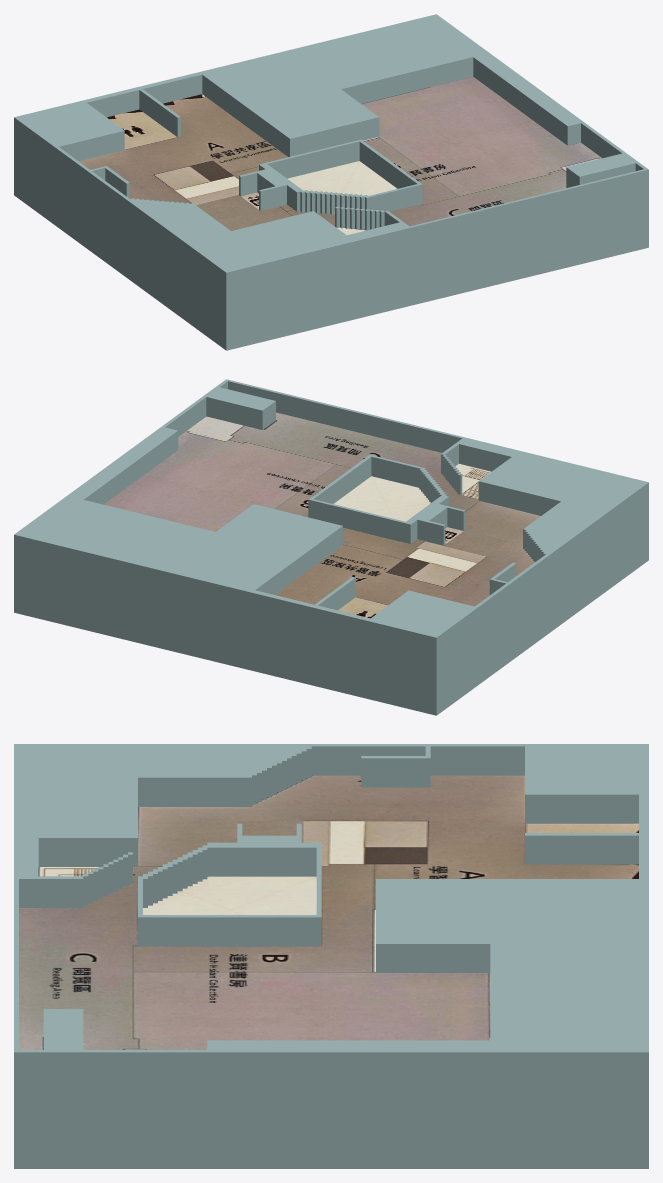
The model's file is Dah-Hsian-Library-3F-cube.glb.
3 renders of one model, top to bottom at view 1: azimuth 30°, elevation 25°; view 2: azimuth 150°, elevation 25°; view 3: azimuth 270°, elevation 25°, orthographic. The views are drawn at different scales.
Parts seen in each view (by area): view 1: Cube, Plane; view 2: Cube, Plane; view 3: Cube, Plane.
Part boxes in pixels (bbox=[...]): Cube: bbox=[14, 14, 648, 350]; Plane: bbox=[79, 76, 601, 234]; Cube: bbox=[14, 379, 648, 715]; Plane: bbox=[104, 412, 540, 618]; Cube: bbox=[14, 744, 648, 1168]; Plane: bbox=[19, 775, 638, 1049].
Size of the model in its own units: 17 by 3 by 14.8.
2 materials, 1 textured.
